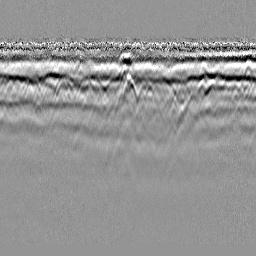cavity: (116, 73, 138, 105)
